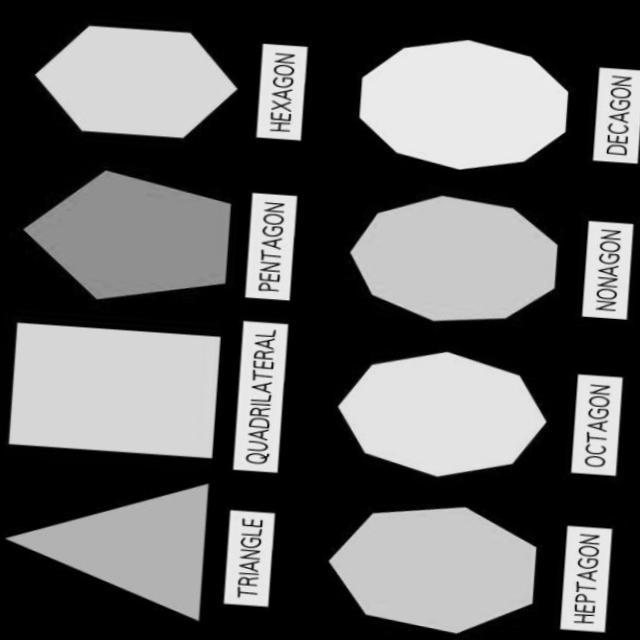square: (0, 304, 229, 470)
triangle: (2, 458, 225, 630)
